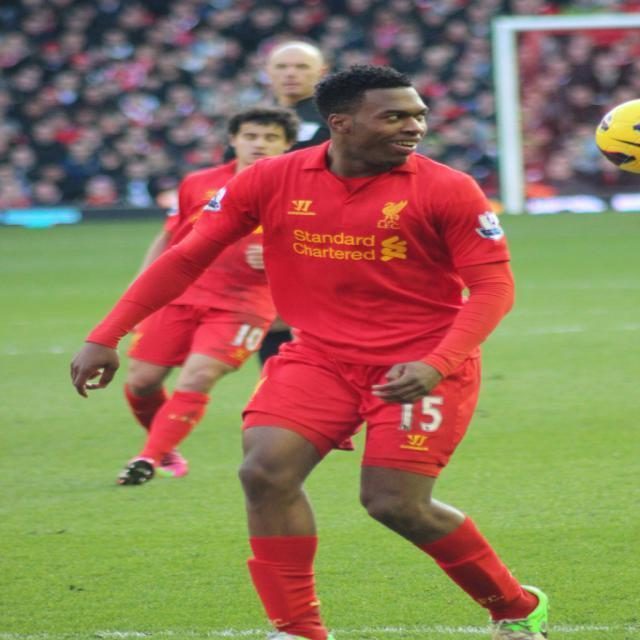ball: (598, 98, 640, 171)
